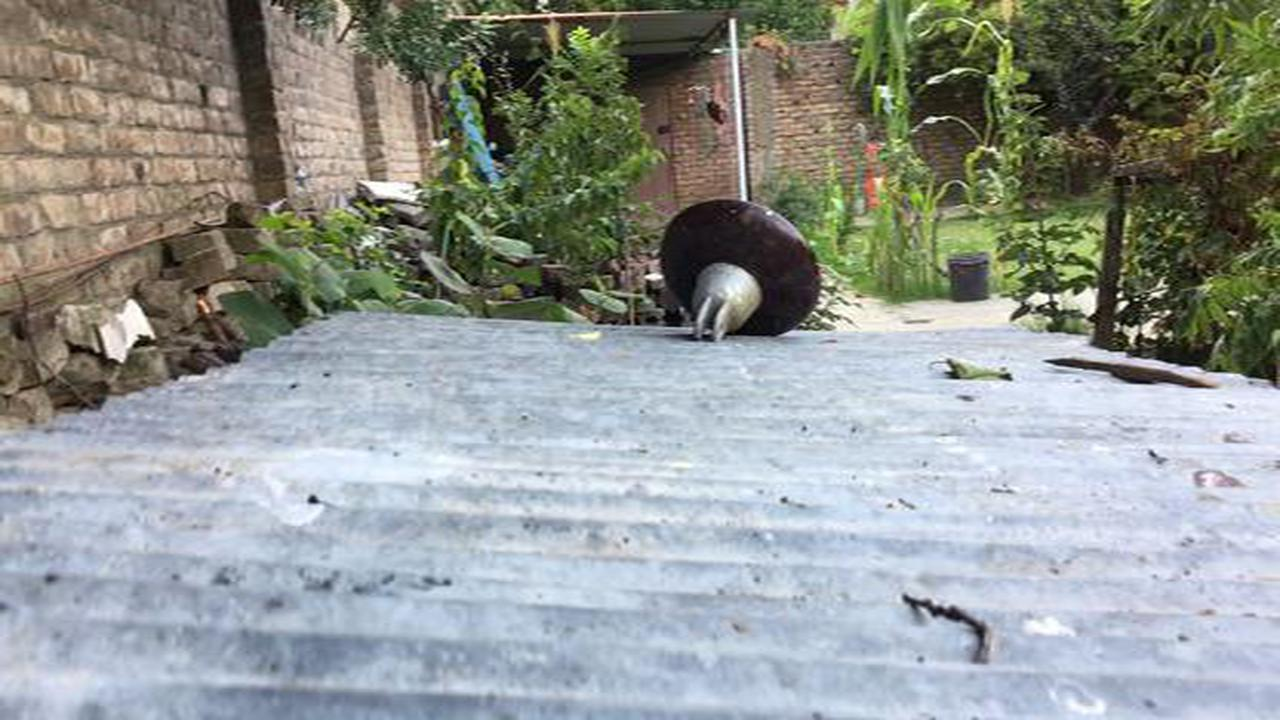insulator_disc: (656, 193, 831, 348)
